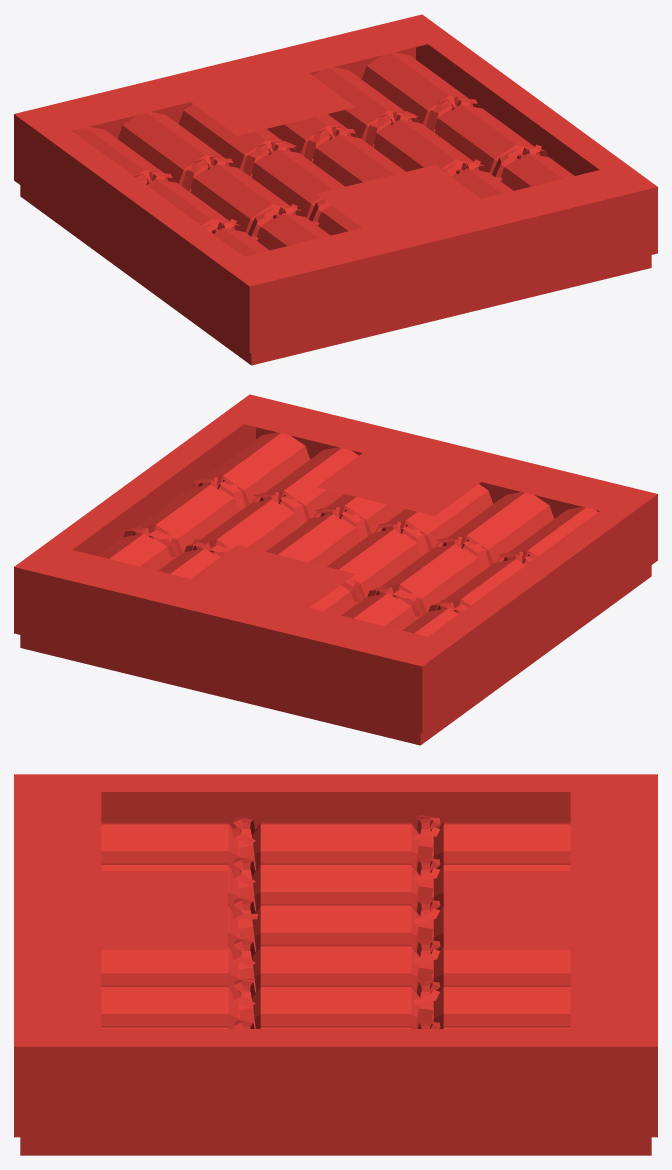
Rendered from SM_Cracker_Box_Christmas.fbx.
The picture shows the model from 3 angles, top to bottom: view 1: azimuth 30°, elevation 25°; view 2: azimuth 150°, elevation 25°; view 3: azimuth 270°, elevation 25°; orthographic projection. The views are drawn at different scales.
Visible parts, largest first — view 1: cracker-box-christmas; view 2: cracker-box-christmas; view 3: cracker-box-christmas.
Part boxes in pixels (x1,y1,x2,y2): cracker-box-christmas: (14, 14, 657, 365); cracker-box-christmas: (14, 394, 657, 745); cracker-box-christmas: (14, 774, 657, 1155).
Bounding box in the file's own units: 0.3309 × 0.0633 × 0.3309.
